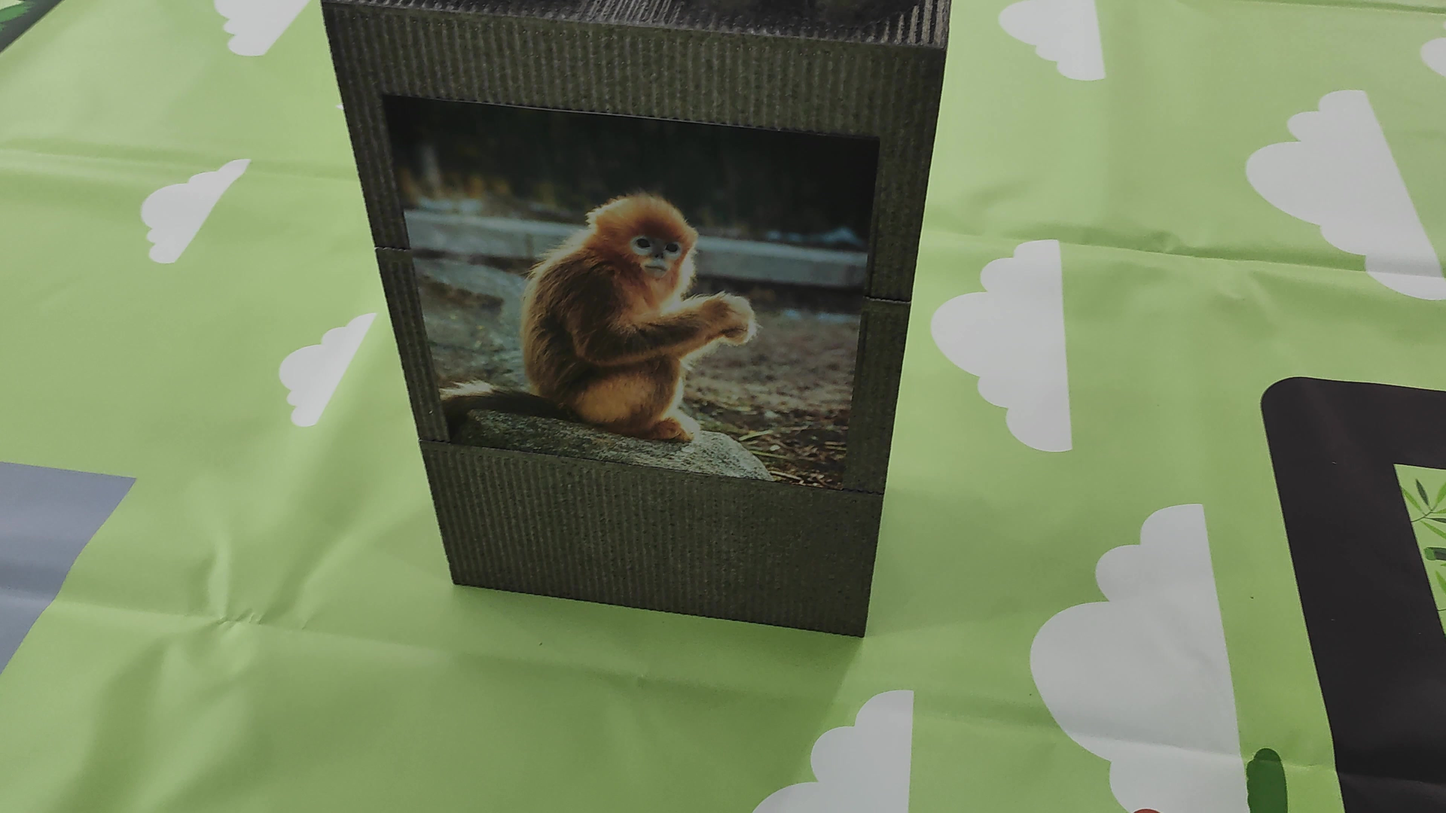monkey: (503, 148, 795, 452)
